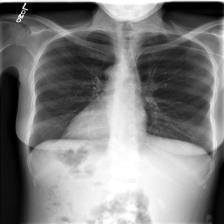normal: (24, 25, 218, 156)
